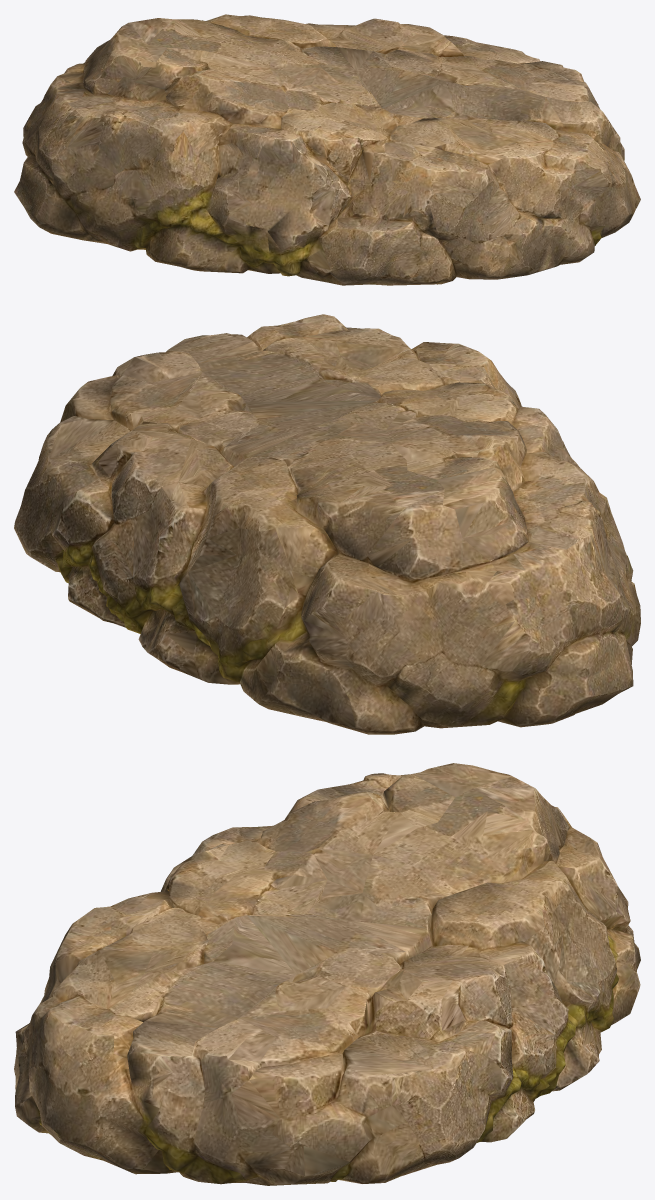
The model's file is rock-01.glb.
3 renders of one model, top to bottom at view 1: azimuth 30°, elevation 25°; view 2: azimuth 150°, elevation 25°; view 3: azimuth 270°, elevation 25°, orthographic. The views are drawn at different scales.
Visible parts, largest first — view 1: nebeljagd-tripo-rock-01; view 2: nebeljagd-tripo-rock-01; view 3: nebeljagd-tripo-rock-01.
Boxes of the visible parts, x1=… form: nebeljagd-tripo-rock-01: x1=14, y1=14, x2=640, y2=285; nebeljagd-tripo-rock-01: x1=14, y1=314, x2=640, y2=734; nebeljagd-tripo-rock-01: x1=14, y1=763, x2=640, y2=1185.
Size of the model in its own units: 2 by 0.5652 by 1.72.
1 material, 1 textured.
